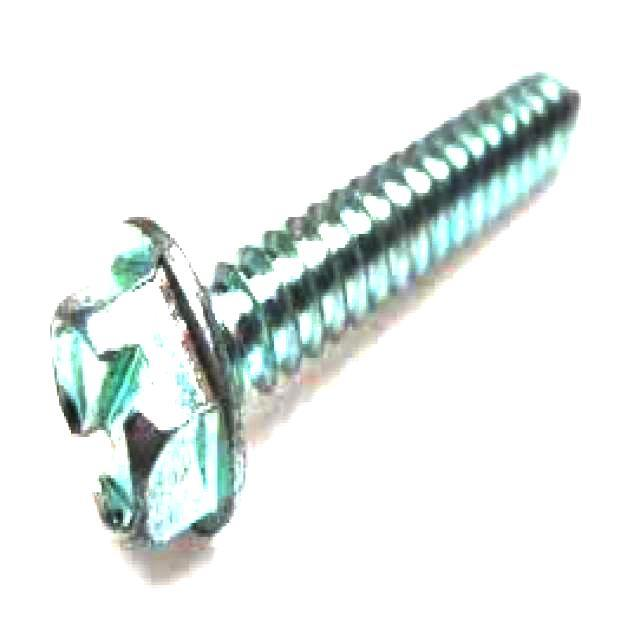Dry Waste: (60, 39, 570, 574)
